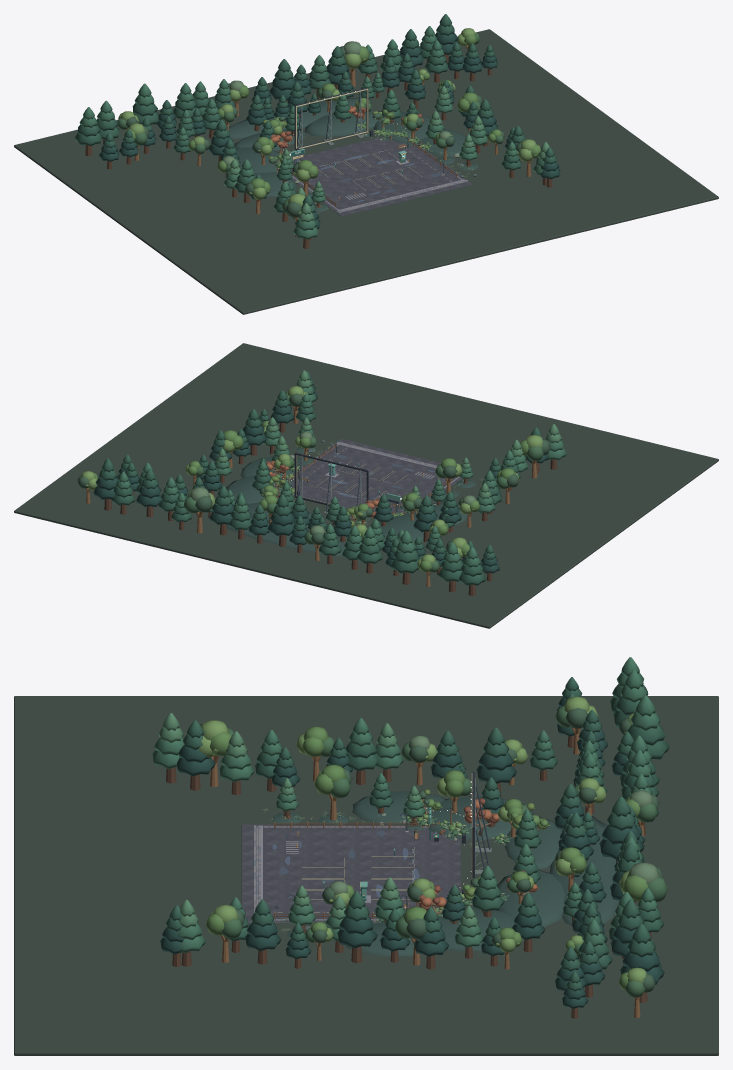
The model's file is grounds.glb.
3 views of the same model, one above another, from view 1: azimuth 30°, elevation 25°; view 2: azimuth 150°, elevation 25°; view 3: azimuth 270°, elevation 25° (orthographic). The views are drawn at different scales.
Parts seen in each view (by area): view 1: 00 · Lot / Mossy soil, 02 · Outer forest / Cedar needles 1, 02 · Outer forest / Cedar needles 0, 03 · Verge trees and understory / Aurora forest floor, 00 · Lot / Rain-washed basalt, 02 · Outer forest / Cedar needles 2, 00 · Lot / Fine blacktop, 02 · Outer forest / Roundleaf 2, 02 · Outer forest / Roundleaf 1, 02 · Outer forest / Cedar endgrain, 03 · Verge trees and understory / Cedar needles 2, 03 · Verge trees and understory / Cedar needles 1 (+8 smaller); view 2: 00 · Lot / Mossy soil, 02 · Outer forest / Cedar needles 1, 02 · Outer forest / Cedar needles 0, 00 · Lot / Rain-washed basalt, 02 · Outer forest / Cedar needles 2, 03 · Verge trees and understory / Aurora forest floor, 02 · Outer forest / Cedar endgrain, 00 · Lot / Fine blacktop, 02 · Outer forest / Roundleaf 2, 02 · Outer forest / Roundleaf 1, 02 · Outer forest / Cedar needles 3, 02 · Outer forest / Roundleaf 3 (+7 smaller); view 3: 00 · Lot / Mossy soil, 02 · Outer forest / Cedar needles 1, 02 · Outer forest / Cedar needles 0, 03 · Verge trees and understory / Aurora forest floor, 00 · Lot / Rain-washed basalt, 02 · Outer forest / Cedar needles 2, 00 · Lot / Fine blacktop, 02 · Outer forest / Roundleaf 2, 02 · Outer forest / Roundleaf 1, 02 · Outer forest / Cedar endgrain, 03 · Verge trees and understory / Cedar needles 2, 03 · Verge trees and understory / Cedar needles 1 (+12 smaller).
Boxes of the visible parts, x1,y1,x2,y2 form: 00 · Lot / Mossy soil: (14,29,718,314); 02 · Outer forest / Cedar needles 1: (74,14,556,212); 02 · Outer forest / Cedar needles 0: (99,32,560,228); 03 · Verge trees and understory / Aurora forest floor: (229,97,478,211); 00 · Lot / Rain-washed basalt: (308,144,457,208); 02 · Outer forest / Cedar needles 2: (79,26,544,239); 00 · Lot / Fine blacktop: (290,136,471,216); 02 · Outer forest / Roundleaf 2: (120,28,536,214); 02 · Outer forest / Roundleaf 1: (118,34,540,197); 02 · Outer forest / Cedar endgrain: (85,54,552,248); 03 · Verge trees and understory / Cedar needles 2: (279,89,477,202); 03 · Verge trees and understory / Cedar needles 1: (261,102,417,180); 00 · Lot / Mossy soil: (14,343,718,628); 02 · Outer forest / Cedar needles 1: (99,371,542,585); 02 · Outer forest / Cedar needles 0: (93,385,548,573); 00 · Lot / Rain-washed basalt: (292,445,446,509); 02 · Outer forest / Cedar needles 2: (116,386,566,567); 03 · Verge trees and understory / Aurora forest floor: (226,447,475,556); 02 · Outer forest / Cedar endgrain: (104,422,556,595); 00 · Lot / Fine blacktop: (291,439,471,513); 02 · Outer forest / Roundleaf 2: (81,386,542,570); 02 · Outer forest / Roundleaf 1: (93,420,528,571); 02 · Outer forest / Cedar needles 3: (216,370,562,498); 02 · Outer forest / Roundleaf 3: (78,393,550,560); 00 · Lot / Mossy soil: (14,696,718,1055); 02 · Outer forest / Cedar needles 1: (165,677,669,991); 02 · Outer forest / Cedar needles 0: (160,696,664,1008); 03 · Verge trees and understory / Aurora forest floor: (272,791,619,956); 00 · Lot / Rain-washed basalt: (263,830,417,916); 02 · Outer forest / Cedar needles 2: (152,657,660,953); 00 · Lot / Fine blacktop: (241,824,460,922); 02 · Outer forest / Roundleaf 2: (199,696,646,982); 02 · Outer forest / Roundleaf 1: (206,726,647,990); 02 · Outer forest / Cedar endgrain: (166,735,651,1018); 03 · Verge trees and understory / Cedar needles 2: (276,773,536,925); 03 · Verge trees and understory / Cedar needles 1: (369,777,541,911).
Bounding box in the file's own units: 115 × 14.3 × 96.
Materials: 51 (2 with a texture image).
